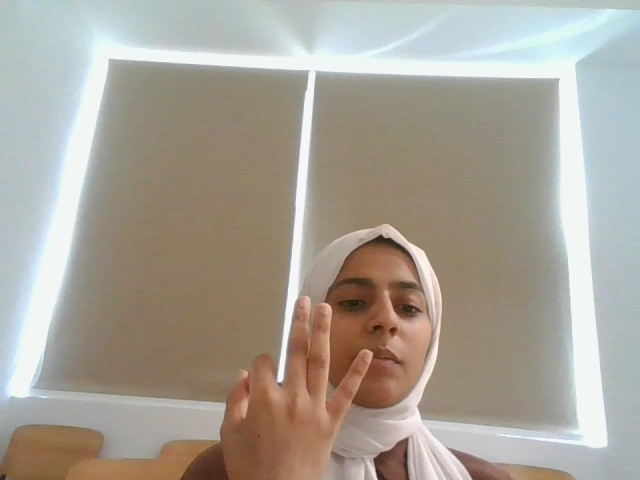okay: (209, 291, 372, 479)
